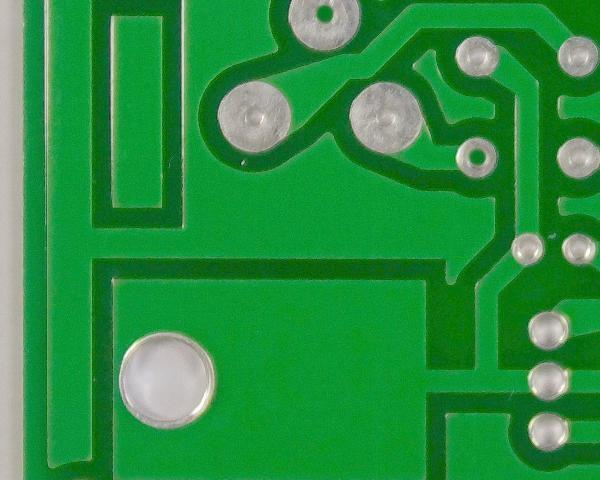missing hole: (279, 1, 365, 54), (453, 132, 502, 182)
